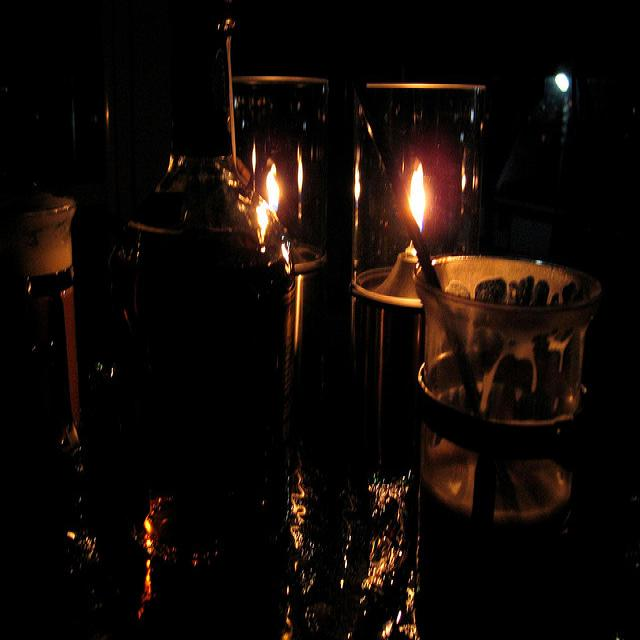Bottle: (128, 112, 306, 556), (17, 184, 115, 540)
Cup: (423, 242, 603, 548), (355, 55, 495, 377), (226, 38, 335, 257)
